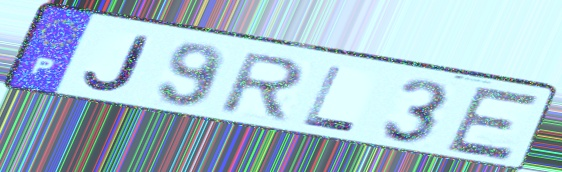3: (378, 78, 454, 146)
9: (156, 40, 226, 110)
E: (441, 84, 544, 164)
J: (80, 33, 154, 95)
L: (300, 64, 361, 135)
R: (212, 51, 310, 124)
